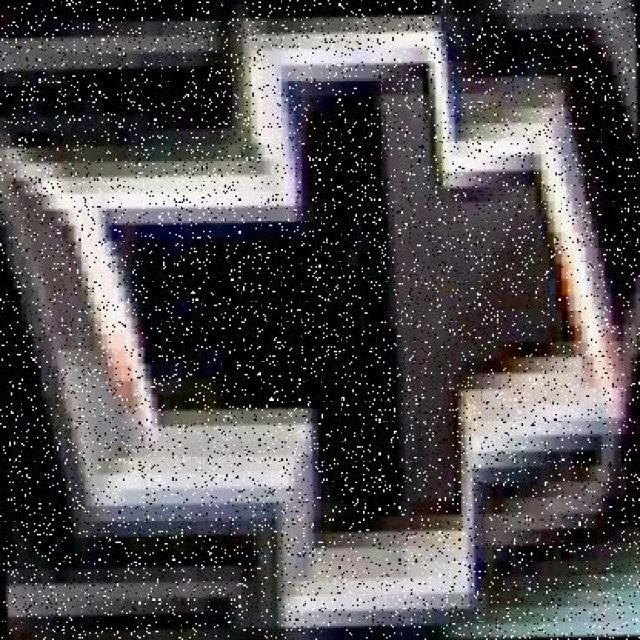Chevrolet: (0, 0, 638, 632)
